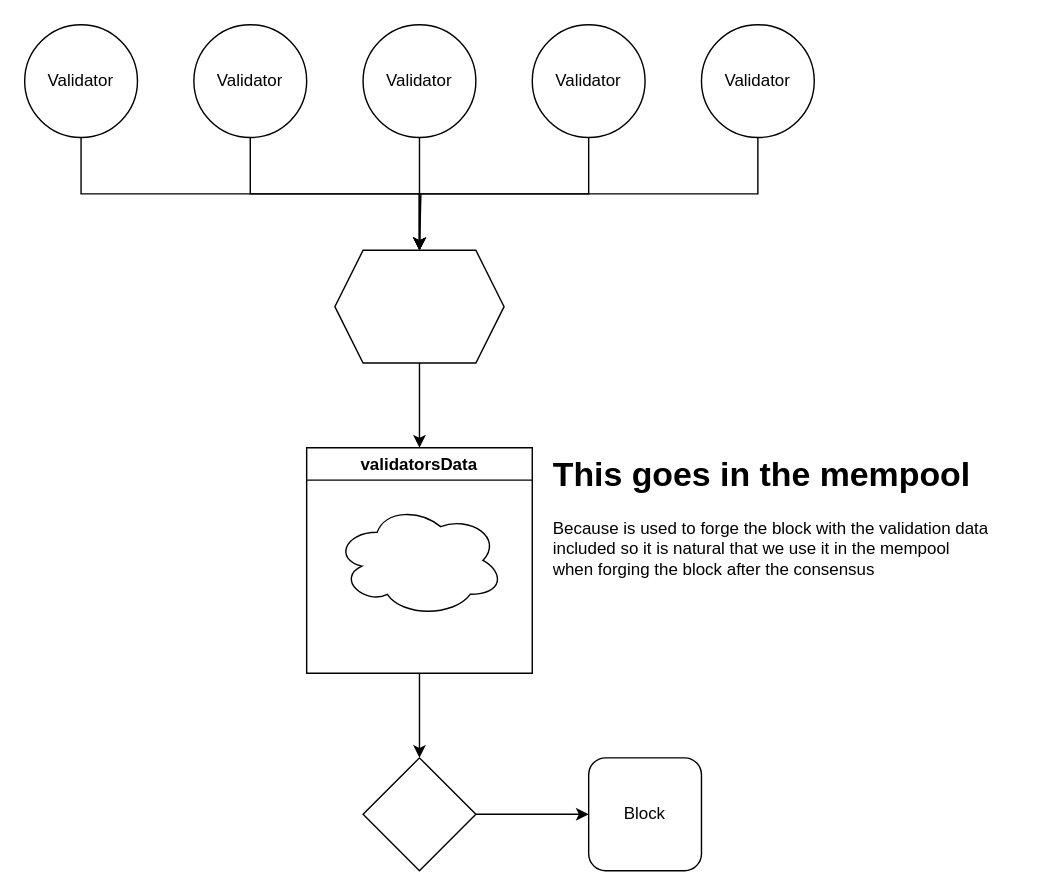
Image size: 1050x895. Some labels were removed from this diagram. Each missing label, with the centre of its shape:
"Consensus Process" belongs at point (418, 306).
"Merged Mempool" belongs at point (419, 813).
"Nodes and Signatures" belongs at point (418, 560).
